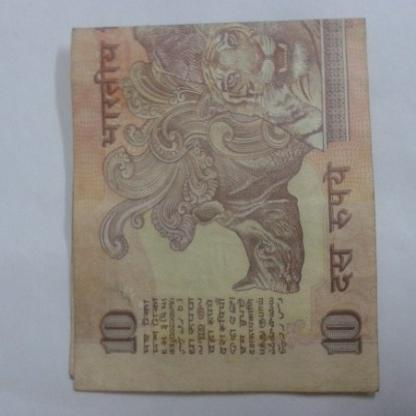Old10Back: (70, 17, 382, 398)
